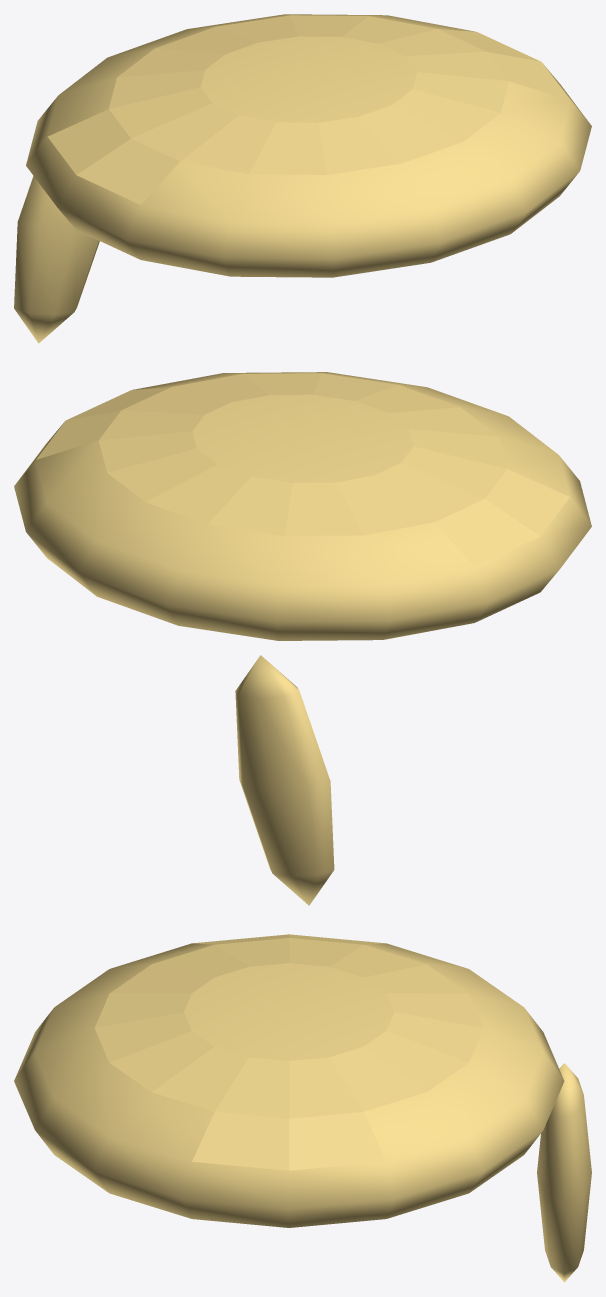
The model's file is Acc_Scarf.fbx.
3 renders of one model, top to bottom at view 1: azimuth 30°, elevation 25°; view 2: azimuth 150°, elevation 25°; view 3: azimuth 270°, elevation 25°, orthographic. The views are drawn at different scales.
Visible parts, largest first — view 1: Scarf, Scarf_Tail; view 2: Scarf, Scarf_Tail; view 3: Scarf, Scarf_Tail.
Part boxes in pixels (left/top/right/bottom): Scarf: left=26, top=14, right=591, bottom=277; Scarf_Tail: left=14, top=176, right=99, bottom=343; Scarf: left=14, top=372, right=591, bottom=640; Scarf_Tail: left=235, top=655, right=334, bottom=905; Scarf: left=14, top=934, right=564, bottom=1227; Scarf_Tail: left=537, top=1063, right=591, bottom=1282.
Bounding box in the file's own units: 44 × 27.78 × 42.
